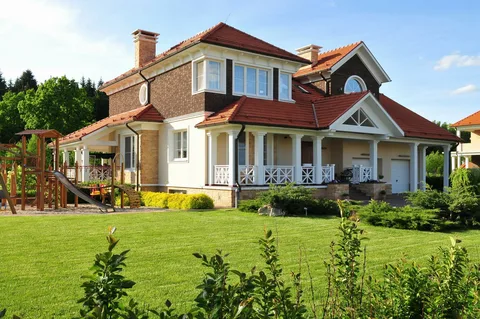private_hause: (112, 26, 423, 203)
